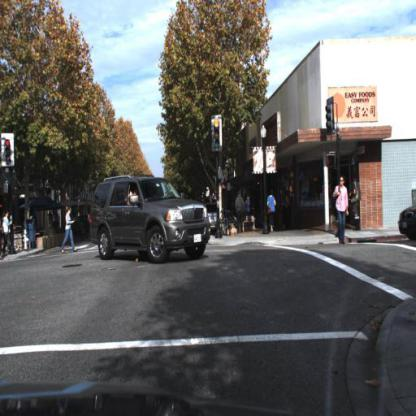car: (88, 171, 212, 268), (395, 187, 416, 246)
pedestrian: (328, 172, 352, 248), (345, 171, 366, 231), (59, 205, 79, 261), (2, 209, 19, 259)
trafficLight: (1, 129, 16, 170), (211, 111, 225, 149)
